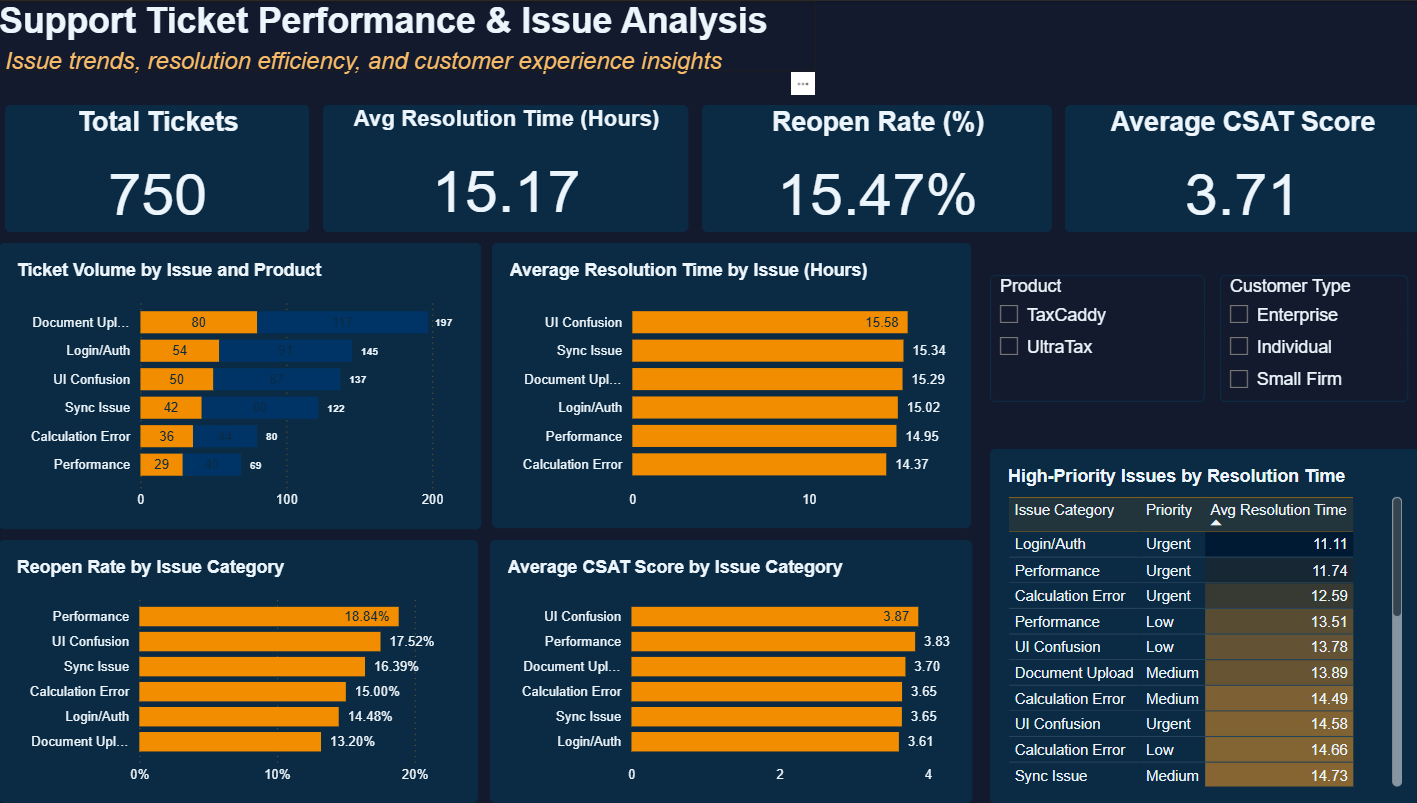

Layout of this report page (visuals, bound fields, positions):
{"tool":"powerbi","page":{"name":"Support Overview","canvas":[1280,720],"ordinal":0},"visuals":[{"type":"card","title":"Total Tickets","fields":{"Values":["SupportTickets.Total Tickets"]},"box":[5.6,93.7,273.2,113.7],"z":0},{"type":"card","title":"Avg Resolution Time (Hours)","fields":{"Values":["SupportTickets.Avg Resolution Time"]},"box":[291,93.7,327.8,113.7],"z":1000},{"type":"card","title":"Reopen Rate (%)","fields":{"Values":["SupportTickets.Reopen Rate"]},"box":[631.1,93.7,314.4,113.7],"z":2000},{"type":"card","title":"Average CSAT Score","fields":{"Values":["SupportTickets.Avg CSAT"]},"box":[956.7,93.7,317.8,113.7],"z":3000},{"type":"barChart","title":"Average Resolution Time by Issue (Hours)","fields":{"Category":["SupportTickets.Issue Category"],"Y":["SupportTickets.Avg Resolution Time"]},"box":[442.6,217.4,430.4,256.4],"z":4000},{"type":"barChart","title":"Ticket Volume by Issue and Product","fields":{"Category":["SupportTickets.Issue Category"],"Y":["SupportTickets.Total Tickets"],"Series":["SupportTickets.Product"]},"box":[0,217.2,433.1,256.8],"z":5000},{"type":"clusteredBarChart","title":"Average CSAT Score by Issue Category","fields":{"Category":["SupportTickets.Issue Category"],"Y":["SupportTickets.Avg CSAT"]},"box":[440.4,483.9,432.6,236.4],"z":6000},{"type":"clusteredBarChart","fields":{"Category":["SupportTickets.Issue Category"],"Y":["SupportTickets.Reopen Rate"]},"box":[0,483.9,430.4,236.4],"z":7000},{"type":"tableEx","title":"High-Priority Issues by Resolution Time","fields":{"Values":["SupportTickets.Issue Category","SupportTickets.Priority","SupportTickets.Avg Resolution Time"]},"box":[889.8,402.5,384.7,317.8],"z":8000},{"type":"slicer","fields":{"Values":["SupportTickets.Product"]},"box":[889.8,246.4,192.9,113.7],"z":9000},{"type":"slicer","fields":{"Values":["SupportTickets.Customer Type"]},"box":[1096,246.4,169.5,113.7],"z":10000},{"type":"textbox","box":[5.1,42.2,664.3,39.6],"z":11000},{"type":"textbox","box":[0,0,733.3,62.6],"z":12000}]}

Visuals, with their boxes in screenshot pixels (x1, y1, x2, y2), scaled from the page's 1280x720 canvas onto the 1417x803 screenshot:
"Total Tickets" card: left=6, top=105, right=309, bottom=231
"Avg Resolution Time (Hours)" card: left=322, top=105, right=685, bottom=231
"Reopen Rate (%)" card: left=699, top=105, right=1047, bottom=231
"Average CSAT Score" card: left=1059, top=105, right=1411, bottom=231
"Average Resolution Time by Issue (Hours)" barChart: left=490, top=242, right=966, bottom=528
"Ticket Volume by Issue and Product" barChart: left=0, top=242, right=479, bottom=529
"Average CSAT Score by Issue Category" clusteredBarChart: left=488, top=540, right=966, bottom=802
clusteredBarChart - SupportTickets.Issue Category x SupportTickets.Reopen Rate: left=0, top=540, right=476, bottom=802
"High-Priority Issues by Resolution Time" tableEx: left=985, top=449, right=1411, bottom=802
slicer - SupportTickets.Product: left=985, top=275, right=1199, bottom=402
slicer - SupportTickets.Customer Type: left=1213, top=275, right=1401, bottom=402
textbox: left=6, top=47, right=741, bottom=91
textbox: left=0, top=0, right=812, bottom=70
